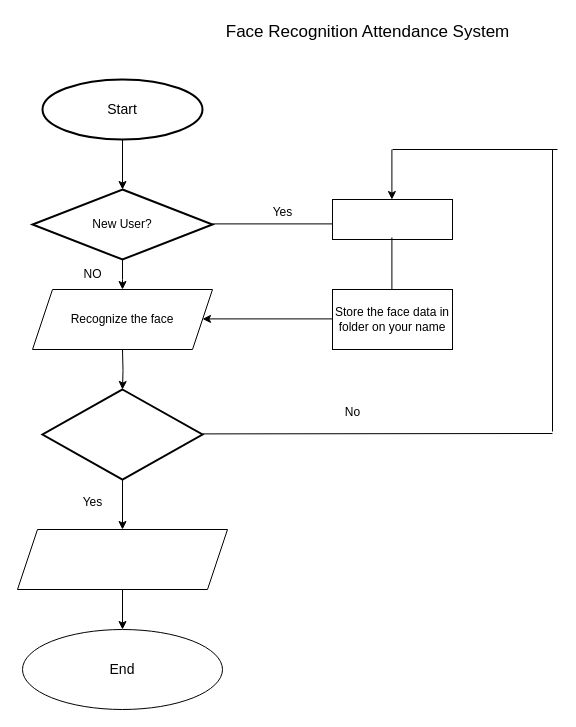
Some shapes in this 576 by 727 pixel diagram are drawn without their labels. Each missing label, with the box of its shape:
Face Recognized: (41, 388, 203, 480)
Give your photograph: (332, 198, 452, 240)
Stored in csv file with Registration Number & Data Time of Entry: (16, 528, 228, 590)
